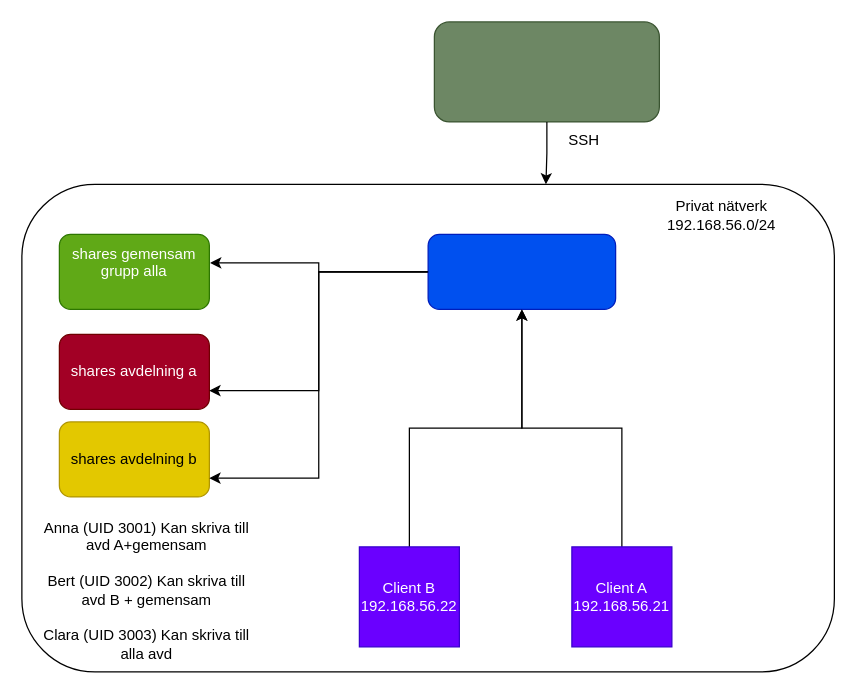
This 856x694 diagram has some shape labels left out. Here are the shapes that lost their labels. From the top down, the centre of each, then its label:
At point 546,71: "Windows host Ansible kör playbooken härifrån".
At point 521,271: "NFS server 192.168.56.10".
